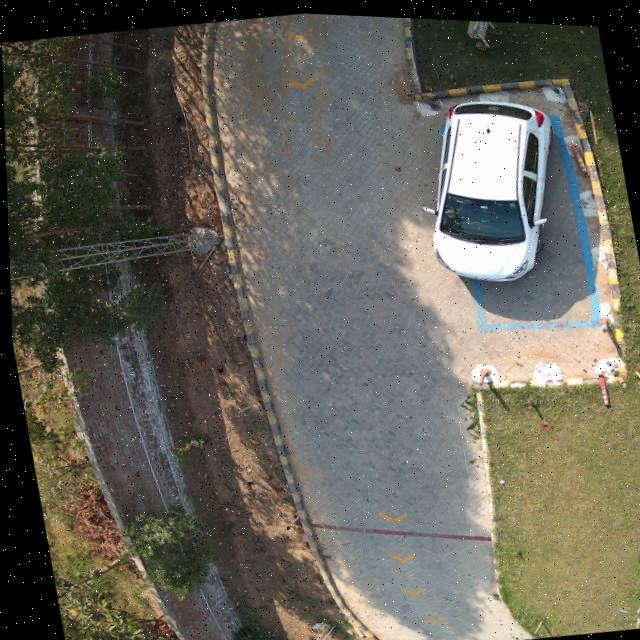car: (433, 91, 554, 277)
